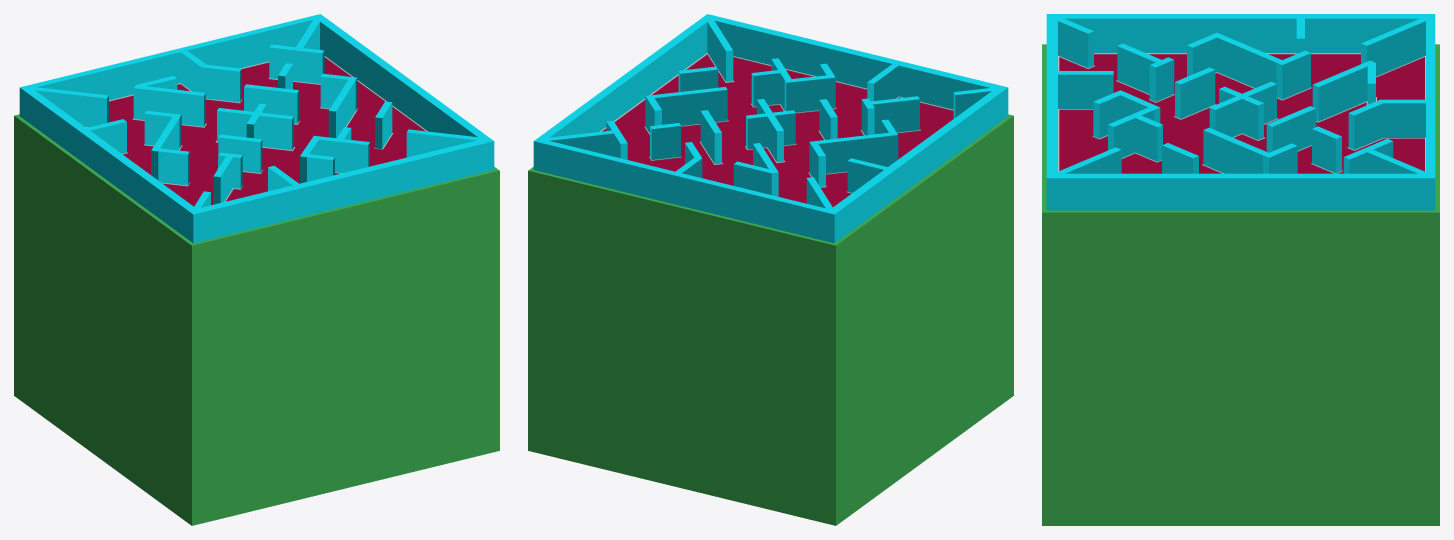
Rendered from Level_30.FBX.
3 views of the same model, side by side, from view 1: azimuth 30°, elevation 25°; view 2: azimuth 150°, elevation 25°; view 3: azimuth 270°, elevation 25° (orthographic). The views are drawn at different scales.
Visible parts, largest first — view 1: Level_30; view 2: Level_30; view 3: Level_30.
Boxes of the visible parts, left/top/right/bottom form: Level_30: left=14, top=14, right=499, bottom=525; Level_30: left=528, top=14, right=1013, bottom=525; Level_30: left=1042, top=14, right=1439, bottom=525.
Bounding box in the file's own units: 138 × 132 × 138.
